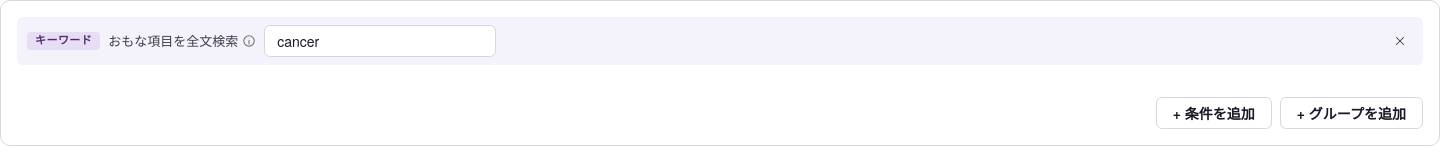
Scenario: AdvancedBuilder free-text row › keyword_rowDescribesSearchScopeHonestly
Expected: the text "おもな項目を全文検索" is shown, [108,31,256,51]
Click the button named "おもな項目を全文検索" at (249, 41), box [242,34,256,48]
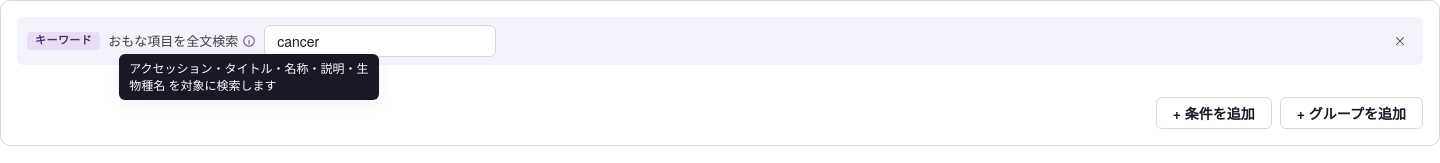
Now the tooltip reads "アクセッション・タイトル・名称・説明・生物種名 を対象に検索します", box [129,59,369,93]
